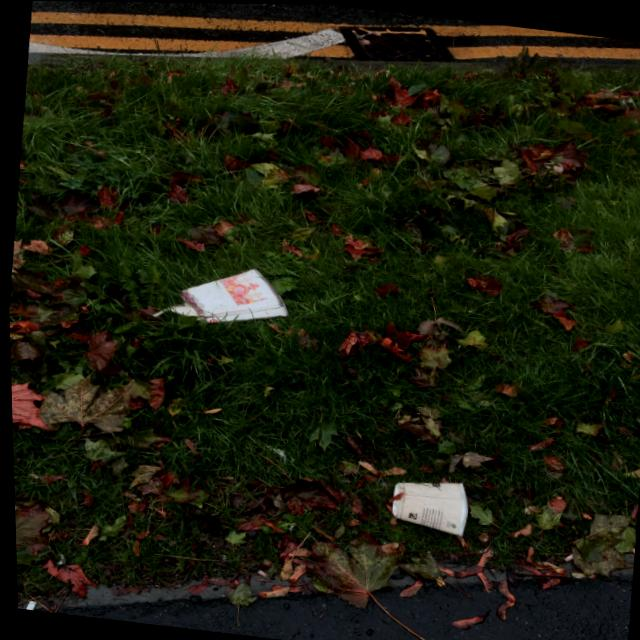Paper: (145, 250, 298, 337), (376, 467, 478, 538)
